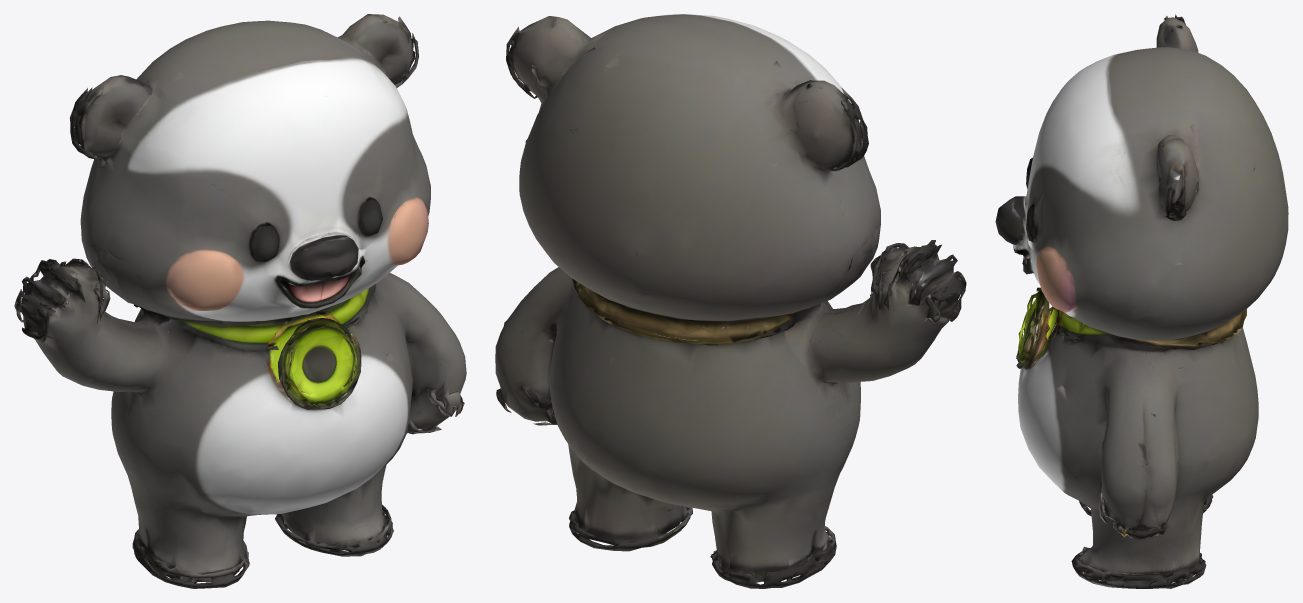
Rendered from honey.glb.
3 renders of one model, left to right at view 1: azimuth 30°, elevation 25°; view 2: azimuth 150°, elevation 25°; view 3: azimuth 270°, elevation 25°, orthographic. The views are drawn at different scales.
Bounding box in the file's own units: 1.82 × 1.99 × 1.12.
Materials: 1 (1 with a texture image).
